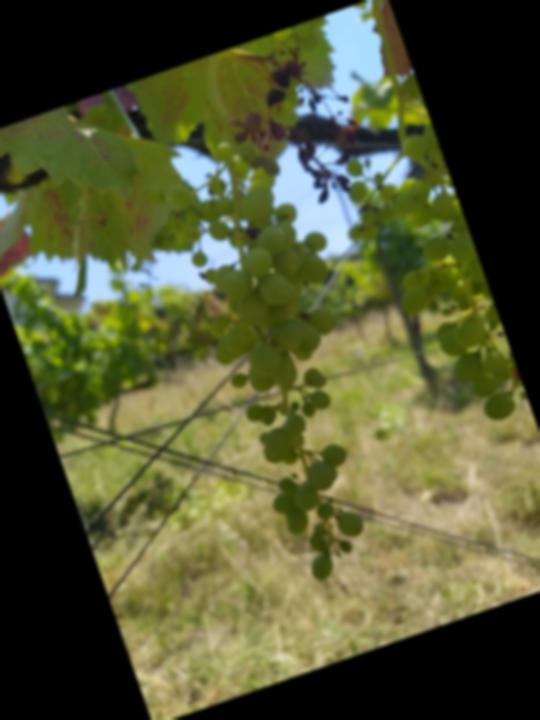grape: (139, 112, 440, 595), (207, 20, 390, 235)
